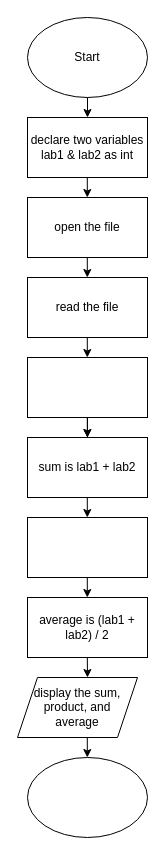
This 165x855 diagram has some shape labels left out. Each missing label, with the centre of its shape:
assign lab1 & lab2 to "lab2.txt": pixel 87 387
End: pixel 87 797
product is lab1 * lab2: pixel 87 547
